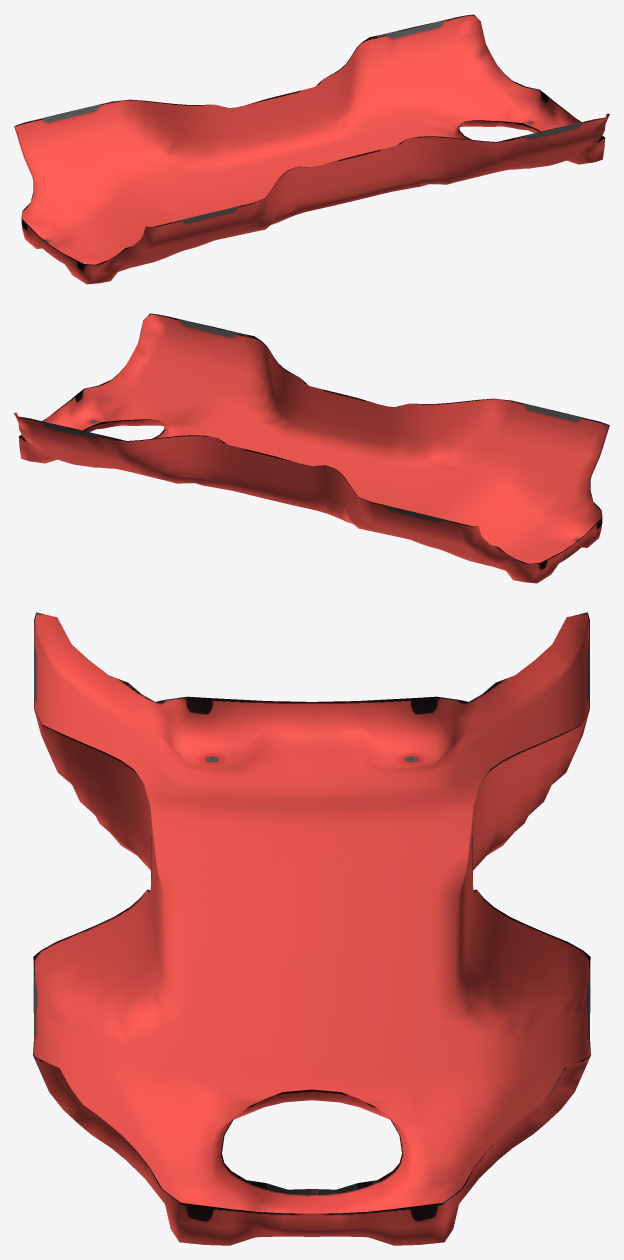
File: bottom_shell.dae
3 renders of one model, top to bottom at view 1: azimuth 30°, elevation 25°; view 2: azimuth 150°, elevation 25°; view 3: azimuth 270°, elevation 25°, orthographic. The views are drawn at different scales.
Visible parts, largest first — view 1: bottom_shell_refined; view 2: bottom_shell_refined; view 3: bottom_shell_refined.
Part boxes in pixels (x1,y1,x2,y2): bottom_shell_refined: (14, 14, 609, 284); bottom_shell_refined: (14, 313, 609, 583); bottom_shell_refined: (33, 612, 590, 1245).
Bounding box in the file's own units: 0.7308 × 0.3367 × 0.1088.
1 material, 1 textured.
